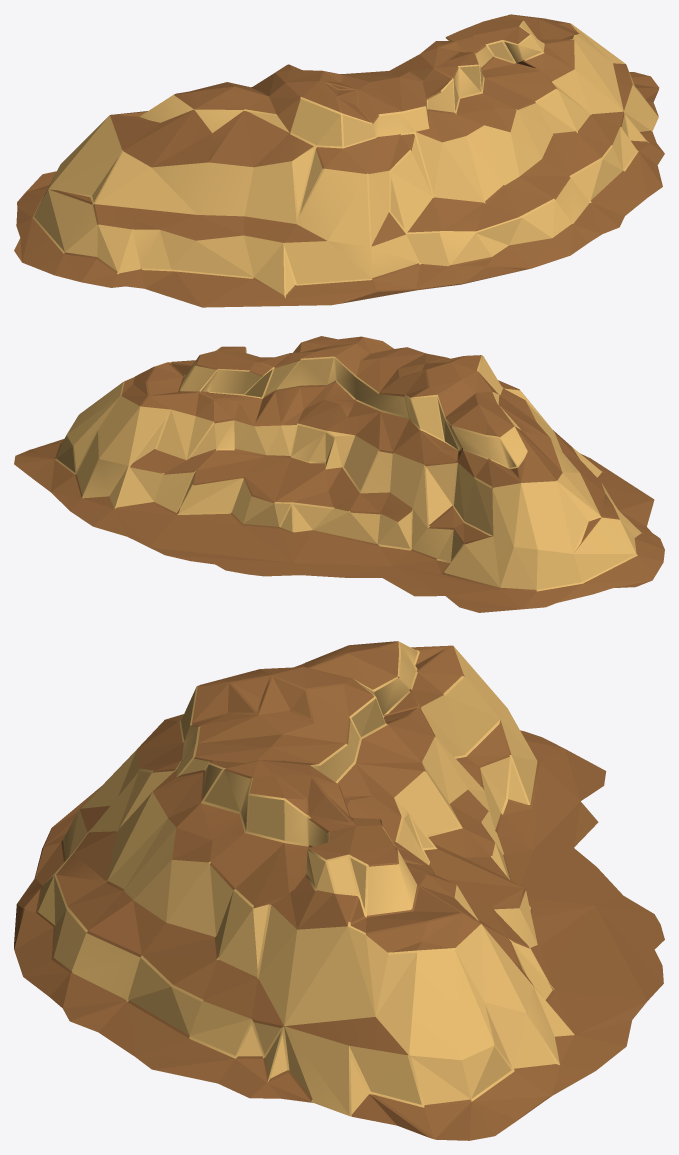
Rendered from BigRock1.gltf.
3 views of the same model, one above another, from view 1: azimuth 30°, elevation 25°; view 2: azimuth 150°, elevation 25°; view 3: azimuth 270°, elevation 25° (orthographic). The views are drawn at different scales.
Parts seen in each view (by area): view 1: Bigrock1; view 2: Bigrock1; view 3: Bigrock1.
Part boxes in pixels (left/top/right/bottom): Bigrock1: left=14, top=14, right=664, bottom=307; Bigrock1: left=14, top=336, right=664, bottom=612; Bigrock1: left=14, top=641, right=664, bottom=1140.
Bounding box in the file's own units: 0.3573 × 0.0767 × 0.2248.
